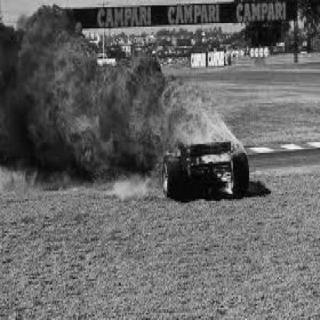Fire: (0, 2, 246, 194)
